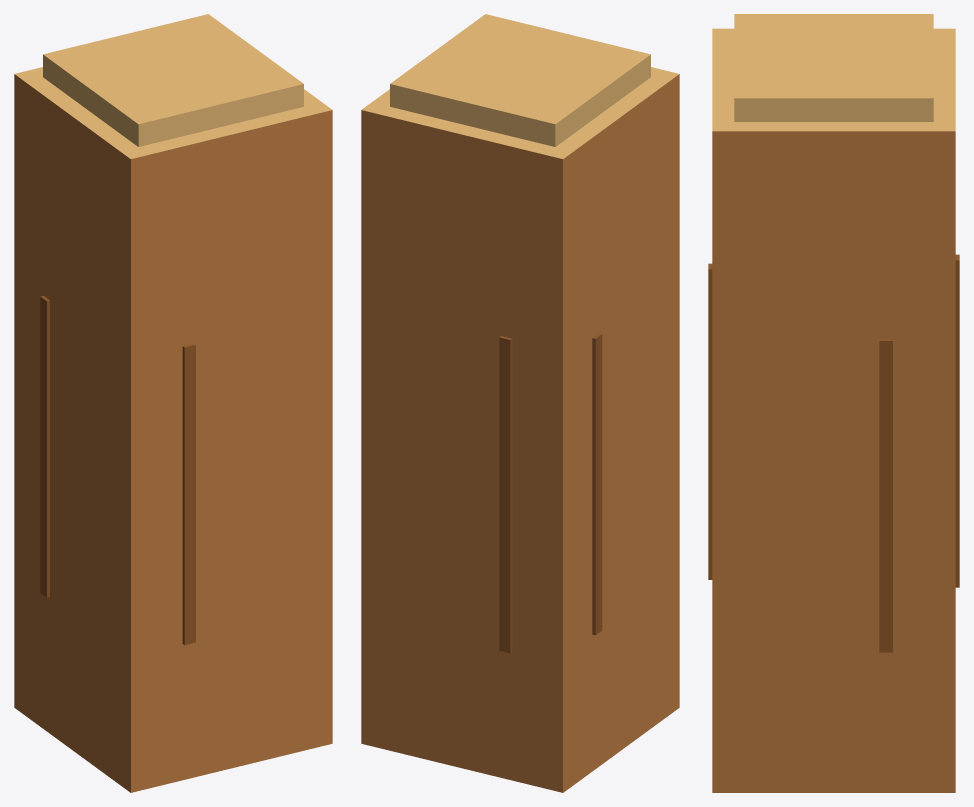
The model's file is fence_post.glb.
3 views of the same model, side by side, from view 1: azimuth 30°, elevation 25°; view 2: azimuth 150°, elevation 25°; view 3: azimuth 270°, elevation 25° (orthographic). The views are drawn at different scales.
Parts seen in each view (by area): view 1: fence_post; view 2: fence_post; view 3: fence_post.
Boxes of the visible parts, bbox=[...] form: fence_post: bbox=[14, 14, 332, 792]; fence_post: bbox=[361, 14, 679, 792]; fence_post: bbox=[708, 14, 959, 792].
Bounding box in the file's own units: 0.258 × 0.777 × 0.258.
